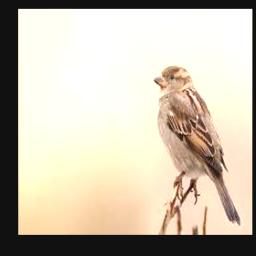Sparrow: (153, 66, 240, 225)
